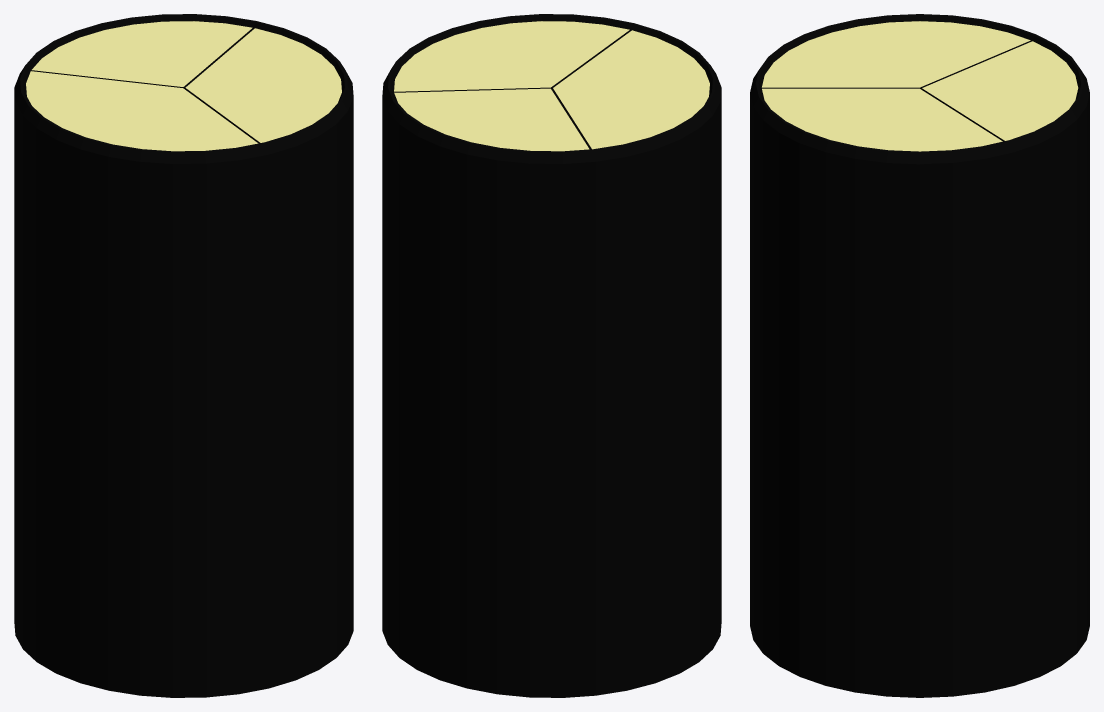
The model's file is CylinderComponent.fbx.
3 views of the same model, side by side, from view 1: azimuth 30°, elevation 25°; view 2: azimuth 150°, elevation 25°; view 3: azimuth 270°, elevation 25° (orthographic).
Visible parts, largest first — view 1: CylinderComponent; view 2: CylinderComponent; view 3: CylinderComponent.
Boxes of the visible parts, x1,y1,x2,y2 form: CylinderComponent: [14, 14, 353, 697]; CylinderComponent: [382, 14, 721, 697]; CylinderComponent: [750, 14, 1089, 697].
Bounding box in the file's own units: 200 × 352 × 200.
